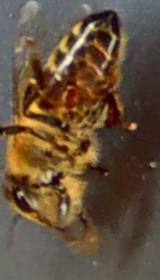varroa_mite: (61, 70, 101, 111)
